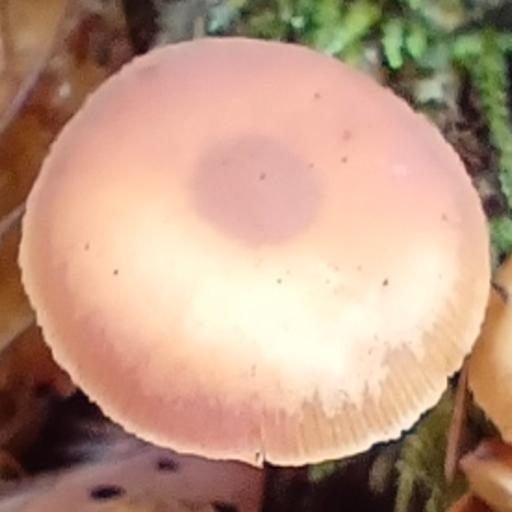mushroom: (26, 30, 492, 472)
